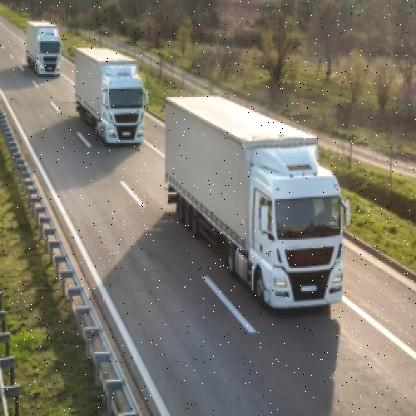truck: (157, 81, 356, 322), (68, 38, 149, 153), (18, 12, 64, 88)
